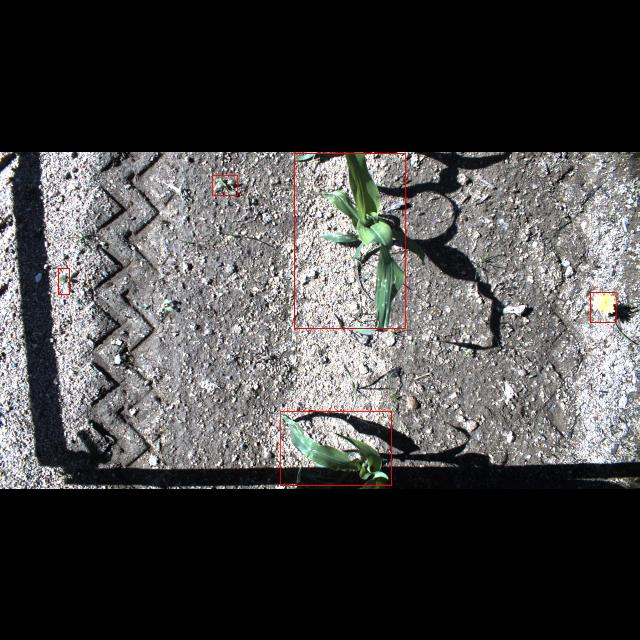crop: (294, 152, 406, 328), (280, 410, 392, 486)
weed: (590, 292, 616, 322), (212, 175, 238, 195), (59, 268, 70, 294)
